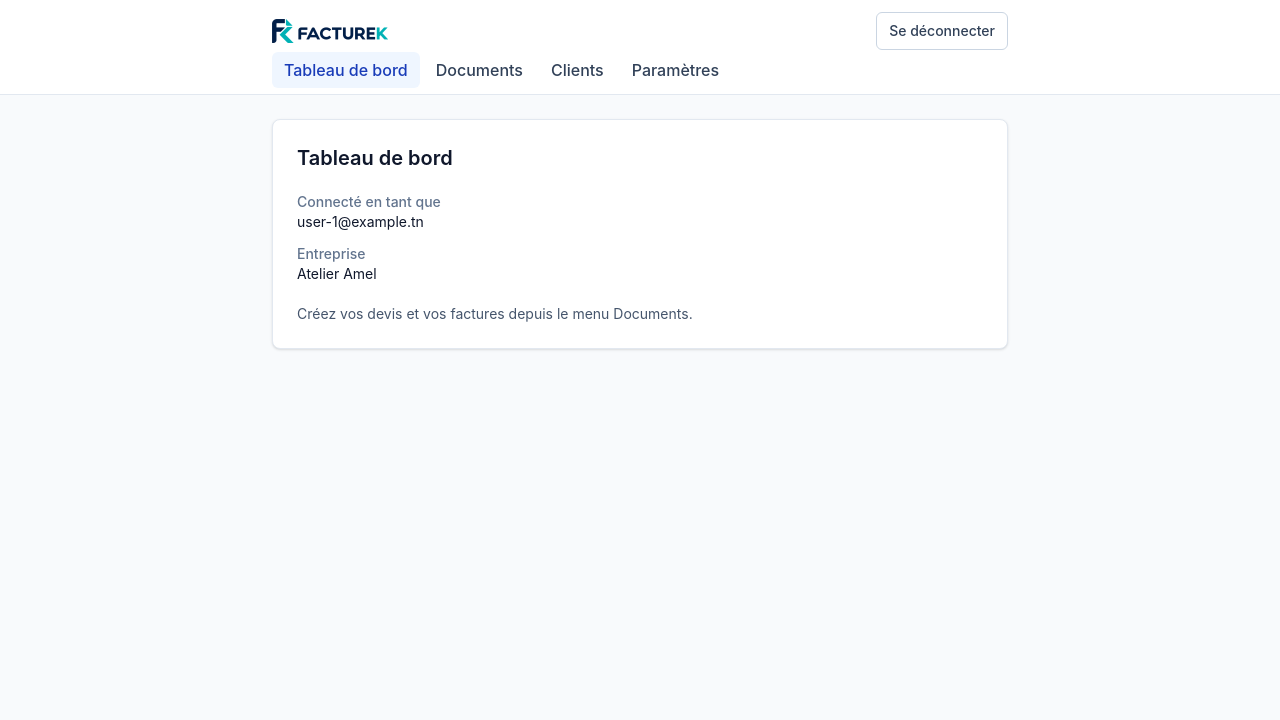
Test: documents list › is reachable from the navigation
Click the link "Documents" at point(479, 70), box [436,60,523,80]
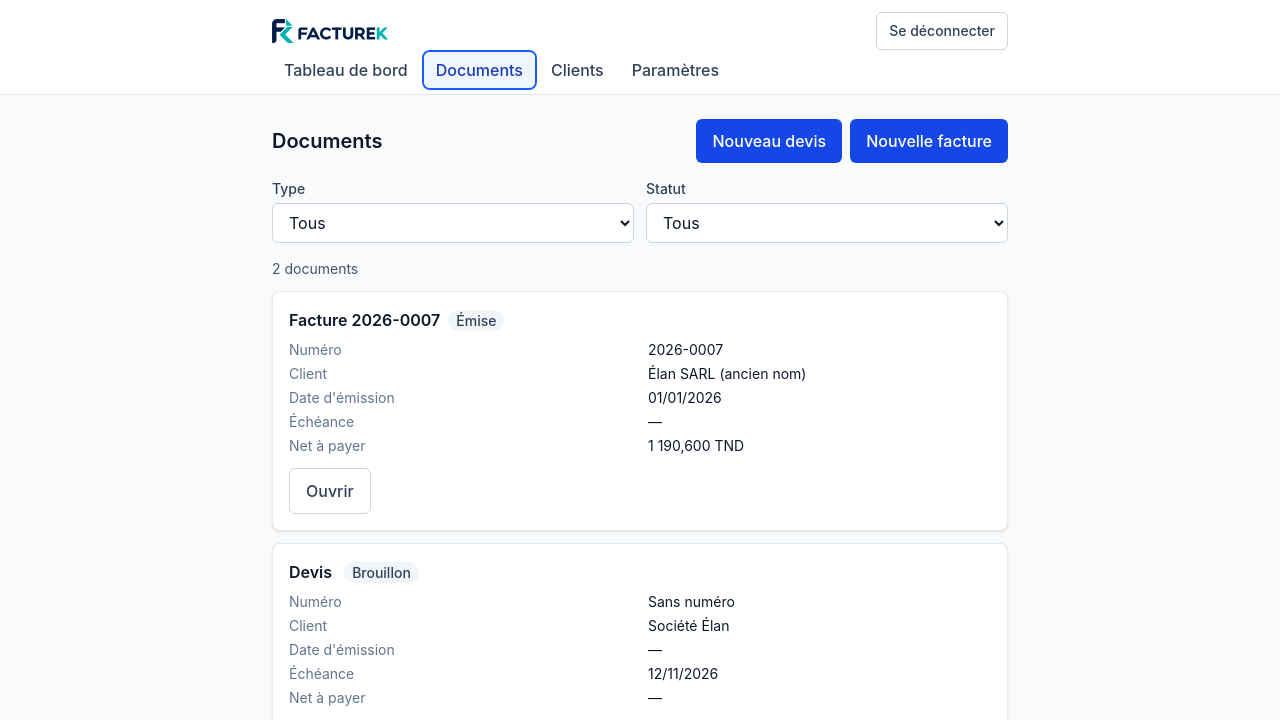
Expected: the heading "Documents" is shown, [272,127,382,155]
